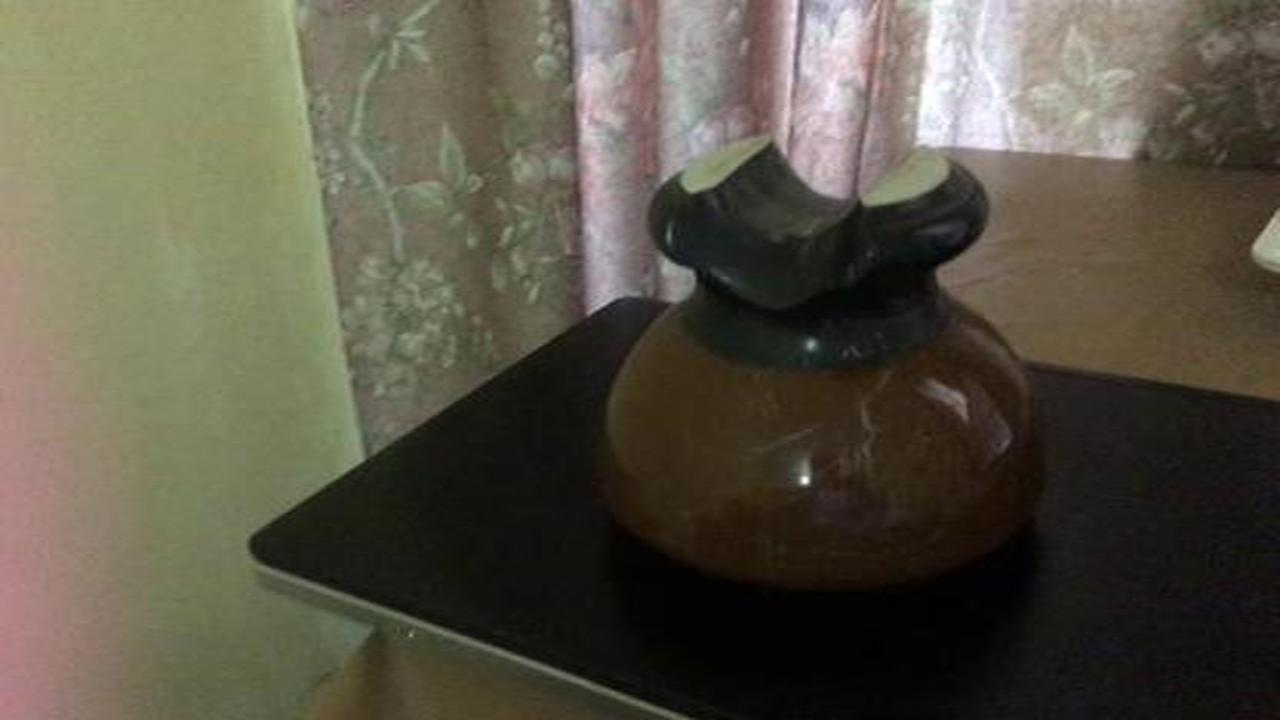insulator_pin: (576, 113, 1071, 608)
